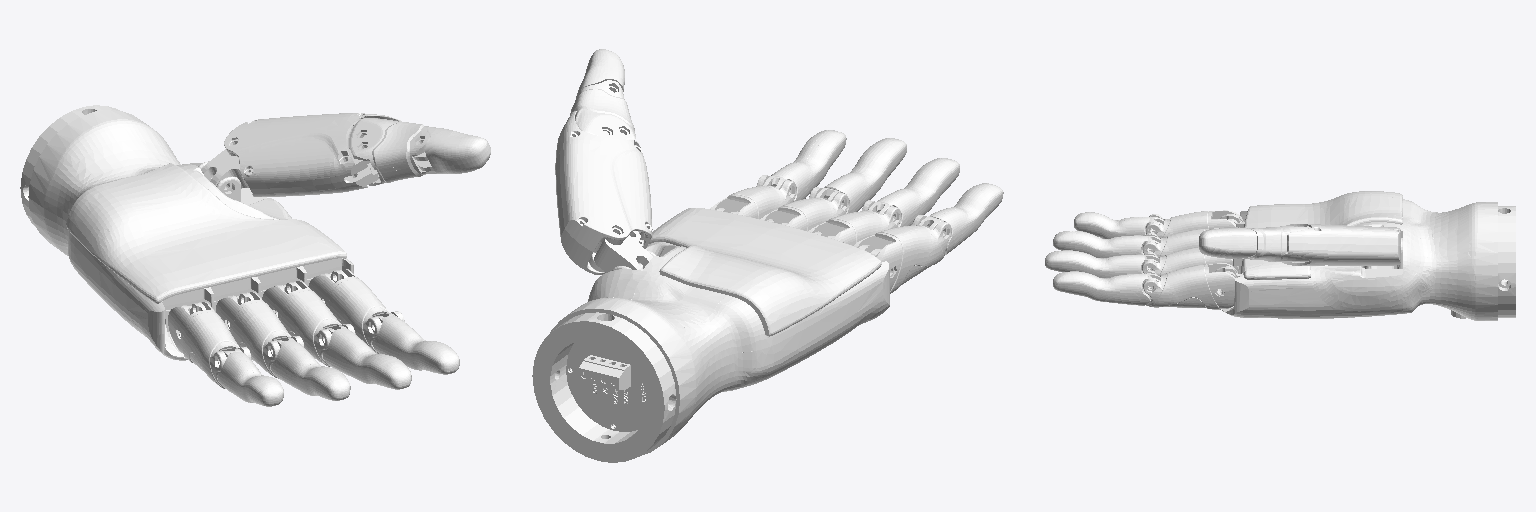
URDF robot description (inspire_hand_l):
<?xml version="1.0" encoding="utf-8"?>
<!-- This URDF was automatically created by SolidWorks to URDF Exporter! Originally created by [author] ([email redacted]) 
     Commit Version: 1.6.0-4-g7f85cfe  Build Version: 1.6.7995.38578
     For more information, please see http://wiki.ros.org/sw_urdf_exporter -->
<robot
  name="inspire_hand_l">
  
  <link name="world"/>
  <joint name="fixed" type="fixed">
  <origin
   xyz="0.5 0.5 0.5"
   rpy="-1.5707963 0 0" />
  <parent link="world"/>
  <child link="L_hand_base_link"/>
  </joint>
  
  <link
    name="L_hand_base_link">
    <inertial>
      <origin
        xyz="-0.076247 -0.1691 0.24613"
        rpy="0 0 0" />
      <mass
        value="0.14143" />
      <inertia
        ixx="7.7231E-05"
        ixy="-1.5968E-06"
        ixz="1.7694E-06"
        iyy="8.3835E-05"
        iyz="2.1995E-06"
        izz="0.0001234" />
    </inertial>
    <visual>
      <origin
        xyz="-0.078182894 -0.248685517 0.067057589"
        rpy="0 0 3.1415926" />
      <geometry>
        <mesh
          filename="package://inspire_hand_l/meshes/L_hand_base_link.STL" />
      </geometry>
      <material
        name="">
        <color
          rgba="1 1 1 1" />
      </material>
    </visual>
    <collision>
      <origin
        xyz="-0.078182894 -0.248685517 0.067057589"
        rpy="0 0 3.1415926" />
      <geometry>
        <mesh
          filename="package://inspire_hand_l/meshes/L_hand_base_link.STL" />
      </geometry>
    </collision>
  </link>
  <link
    name="L_thumb_proximal_base">
    <inertial>
      <origin
        xyz="-0.0048772 0.00668 -0.00044071"
        rpy="0 0 0" />
      <mass
        value="0.0018869" />
      <inertia
        ixx="5.2003E-08"
        ixy="4.8353E-09"
        ixz="6.6444E-09"
        iyy="6.7434E-08"
        iyz="-5.4476E-10"
        izz="8.5319E-08" />
    </inertial>
    <visual>
      <origin
        xyz="0 0 0"
        rpy="0 0.3 0" />
      <geometry>
        <mesh
          filename="package://inspire_hand_l/meshes/L_thumb_proximal_base.STL" />
      </geometry>
      <material
        name="">
        <color
          rgba="1 1 1 1" />
      </material>
    </visual>
    <collision>
      <origin
        xyz="0 0 0"
        rpy="0 0.3 0" />
      <geometry>
        <mesh
          filename="package://inspire_hand_l/meshes/L_thumb_proximal_base.STL" />
      </geometry>
    </collision>
  </link>
  <joint
    name="L_thumb_MCP_joint1"
    type="revolute">
    <origin
      xyz="0.020450106 -0.016955517 -0.091202411"
      rpy="-1.5708 0 2.9722026" />
    <parent
      link="L_hand_base_link" />
    <child
      link="L_thumb_proximal_base" />
    <axis
      xyz="0 1 0" />
    <limit
      lower="0"
      upper="1.1"
      effort="50"
      velocity="1" />
  </joint>
  <link
    name="L_thumb_proximal">
    <inertial>
      <origin
        xyz="-3.8578E-05 0.025335 0.0016982"
        rpy="0 0 0" />
      <mass
        value="0.0066101" />
      <inertia
        ixx="2.787E-06"
        ixy="1.3042E-10"
        ixz="1.3413E-09"
        iyy="8.9435E-07"
        iyz="2.1426E-07"
        izz="2.4105E-06" />
    </inertial>
    <visual>
      <origin
        xyz="0 0 0"
        rpy="0 0 0" />
      <geometry>
        <mesh
          filename="package://inspire_hand_l/meshes/L_thumb_proximal.STL" />
      </geometry>
      <material
        name="">
        <color
          rgba="1 1 1 1" />
      </material>
    </visual>
    <collision>
      <origin
        xyz="0 0 0"
        rpy="0 0 0" />
      <geometry>
        <mesh
          filename="package://inspire_hand_l/meshes/L_thumb_proximal.STL" />
      </geometry>
    </collision>
  </link>
  <joint
    name="L_thumb_MCP_joint2"
    type="revolute">
    <origin
      xyz="-0.0115 0.005 0.0034"
      rpy="0.5948037 -1.2708 0" />
    <parent
      link="L_thumb_proximal_base" />
    <child
      link="L_thumb_proximal" />
    <axis
      xyz="-1 0 0" />
    <limit
      lower="0"
      upper="0.5"
      effort="50"
      velocity="1" />
  </joint>
  <link
    name="L_thumb_intermediate">
    <inertial>
      <origin
        xyz="-1.7401E-07 0.0072516 0.0064286"
        rpy="0 0 0" />
      <mass
        value="0.0037844" />
      <inertia
        ixx="4.6532E-07"
        ixy="-9.1152E-13"
        ixz="-3.8682E-12"
        iyy="2.6856E-07"
        iyz="6.4144E-08"
        izz="4.252E-07" />
    </inertial>
    <visual>
      <origin
        xyz="0 0 0"
        rpy="0 0 0" />
      <geometry>
        <mesh
          filename="package://inspire_hand_l/meshes/L_thumb_intermediate.STL" />
      </geometry>
      <material
        name="">
        <color
          rgba="1 1 1 1" />
      </material>
    </visual>
    <collision>
      <origin
        xyz="0 0 0"
        rpy="0 0 0" />
      <geometry>
        <mesh
          filename="package://inspire_hand_l/meshes/L_thumb_intermediate.STL" />
      </geometry>
    </collision>
  </link>
  <joint
    name="L_thumb_PIP_joint"
    type="revolute">
    <origin
      xyz="0 0.055863 -0.0039241"
      rpy="0.038299 0 0" />
    <parent
      link="L_thumb_proximal" />
    <child
      link="L_thumb_intermediate" />
    <axis
      xyz="-1 0 0" />
    <limit
      lower="0"
      upper="1"
      effort="50"
      velocity="1" />
  </joint>
  <link
    name="L_thumb_distal">
    <inertial>
      <origin
        xyz="-3.3076E-06 0.010511 0.00057861"
        rpy="0 0 0" />
      <mass
        value="0.003344" />
      <inertia
        ixx="2.0026E-07"
        ixy="-1.4157E-10"
        ixz="5.6213E-11"
        iyy="8.7108E-08"
        iyz="2.4414E-08"
        izz="1.8974E-07" />
    </inertial>
    <visual>
      <origin
        xyz="0 0 0"
        rpy="0 0 0" />
      <geometry>
        <mesh
          filename="package://inspire_hand_l/meshes/L_thumb_distal.STL" />
      </geometry>
      <material
        name="">
        <color
          rgba="1 1 1 1" />
      </material>
    </visual>
    <collision>
      <origin
        xyz="0 0 0"
        rpy="0 0 0" />
      <geometry>
        <mesh
          filename="package://inspire_hand_l/meshes/L_thumb_distal.STL" />
      </geometry>
    </collision>
  </link>
  <joint
    name="L_thumb_DIP_joint"
    type="revolute">
    <origin
      xyz="0 0.022558 0.0020717"
      rpy="0.011642 0 0" />
    <parent
      link="L_thumb_intermediate" />
    <child
      link="L_thumb_distal" />
    <axis
      xyz="-1 0 0" />
    <limit
      lower="0"
      upper="1.2"
      effort="50"
      velocity="1" />
  </joint>
  <link
    name="L_index_proximal">
    <inertial>
      <origin
        xyz="0.0080456 0.011884 -0.0016957"
        rpy="0 0 0" />
      <mass
        value="0.0042405" />
      <inertia
        ixx="6.9402E-07"
        ixy="1.4654E-11"
        ixz="-2.3231E-12"
        iyy="2.3041E-07"
        iyz="9.1802E-08"
        izz="6.4342E-07" />
    </inertial>
    <visual>
      <origin
        xyz="0 0 0"
        rpy="0 0 0" />
      <geometry>
        <mesh
          filename="package://inspire_hand_l/meshes/L_index_proximal.STL" />
      </geometry>
      <material
        name="">
        <color
          rgba="1 1 1 1" />
      </material>
    </visual>
    <collision>
      <origin
        xyz="0 0 0"
        rpy="0 0 0" />
      <geometry>
        <mesh
          filename="package://inspire_hand_l/meshes/L_index_proximal.STL" />
      </geometry>
    </collision>
  </link>
  <joint
    name="L_index_MCP_joint"
    type="revolute">
    <origin
      xyz="0.018231106 0.000284483 -0.173012411"
      rpy="-1.3208 -0.034907 0" />
    <parent
      link="L_hand_base_link" />
    <child
      link="L_index_proximal" />
    <axis
      xyz="-1 0 0" />
    <limit
      lower="0"
      upper="1.7"
      effort="50"
      velocity="1" />
  </joint>
  <link
    name="L_index_distal">
    <inertial>
      <origin
        xyz="0.0063917 0.01959 -0.0019564"
        rpy="0 0 0" />
      <mass
        value="0.0045682" />
      <inertia
        ixx="7.8176E-07"
        ixy="-7.7162E-14"
        ixz="3.9272E-13"
        iyy="1.5634E-07"
        iyz="2.1006E-07"
        izz="7.0081E-07" />
    </inertial>
    <visual>
      <origin
        xyz="0 0 0"
        rpy="0 0 0" />
      <geometry>
        <mesh
          filename="package://inspire_hand_l/meshes/L_index_distal.STL" />
      </geometry>
      <material
        name="">
        <color
          rgba="1 1 1 1" />
      </material>
    </visual>
    <collision>
      <origin
        xyz="0 0 0"
        rpy="0 0 0" />
      <geometry>
        <mesh
          filename="package://inspire_hand_l/meshes/L_index_distal.STL" />
      </geometry>
    </collision>
  </link>
  <joint
    name="L_index_DIP_joint"
    type="revolute">
    <origin
      xyz="0.0016538 0.030445 -0.010275"
      rpy="-0.039748 0 0" />
    <parent
      link="L_index_proximal" />
    <child
      link="L_index_distal" />
    <axis
      xyz="-1 0 0" />
    <limit
      lower="0"
      upper="1.6"
      effort="50"
      velocity="1" />
  </joint>
  <link
    name="L_middle_proximal">
    <inertial>
      <origin
        xyz="0.0080653 0.011884 -0.0016957"
        rpy="0 0 0" />
      <mass
        value="0.0042405" />
      <inertia
        ixx="6.9402E-07"
        ixy="1.4338E-11"
        ixz="-2.3917E-12"
        iyy="2.3041E-07"
        iyz="9.1802E-08"
        izz="6.4342E-07" />
    </inertial>
    <visual>
      <origin
        xyz="0 0 0"
        rpy="0 0 0" />
      <geometry>
        <mesh
          filename="package://inspire_hand_l/meshes/L_middle_proximal.STL" />
      </geometry>
      <material
        name="">
        <color
          rgba="1 1 1 1" />
      </material>
    </visual>
    <collision>
      <origin
        xyz="0 0 0"
        rpy="0 0 0" />
      <geometry>
        <mesh
          filename="package://inspire_hand_l/meshes/L_middle_proximal.STL" />
      </geometry>
    </collision>
  </link>
  <joint
    name="L_middle_MCP_joint"
    type="revolute">
    <origin
      xyz="-0.001114894 0.000284483 -0.173012411"
      rpy="-1.3208 0 0" />
    <parent
      link="L_hand_base_link" />
    <child
      link="L_middle_proximal" />
    <axis
      xyz="-1 0 0" />
    <limit
      lower="0"
      upper="1.7"
      effort="50"
      velocity="1" />
  </joint>
  <link
    name="L_middle_distal">
    <inertial>
      <origin
        xyz="0.0063955 0.020807 -0.0018039"
        rpy="0 0 0" />
      <mass
        value="0.0050397" />
      <inertia
        ixx="9.8385E-07"
        ixy="-4.0683E-12"
        ixz="-1.7233E-12"
        iyy="1.7328E-07"
        iyz="2.5594E-07"
        izz="8.9141E-07" />
    </inertial>
    <visual>
      <origin
        xyz="0 0 0"
        rpy="0 0 0" />
      <geometry>
        <mesh
          filename="package://inspire_hand_l/meshes/L_middle_distal.STL" />
      </geometry>
      <material
        name="">
        <color
          rgba="1 1 1 1" />
      </material>
    </visual>
    <collision>
      <origin
        xyz="0 0 0"
        rpy="0 0 0" />
      <geometry>
        <mesh
          filename="package://inspire_hand_l/meshes/L_middle_distal.STL" />
      </geometry>
    </collision>
  </link>
  <joint
    name="L_middle_DIP_joint"
    type="revolute">
    <origin
      xyz="0.0016698 0.030445 -0.010275"
      rpy="-0.071413 0 0" />
    <parent
      link="L_middle_proximal" />
    <child
      link="L_middle_distal" />
    <axis
      xyz="-1 0 0" />
    <limit
      lower="0"
      upper="1.6"
      effort="50"
      velocity="1" />
  </joint>
  <link
    name="L_ring_proximal">
    <inertial>
      <origin
        xyz="0.010821 0.011884 -0.0016957"
        rpy="0 0 0" />
      <mass
        value="0.0042405" />
      <inertia
        ixx="6.9402E-07"
        ixy="1.3923E-11"
        ixz="-2.5637E-12"
        iyy="2.3041E-07"
        iyz="9.1802E-08"
        izz="6.4342E-07" />
    </inertial>
    <visual>
      <origin
        xyz="0 0 0"
        rpy="0 0 0" />
      <geometry>
        <mesh
          filename="package://inspire_hand_l/meshes/L_ring_proximal.STL" />
      </geometry>
      <material
        name="">
        <color
          rgba="1 1 1 1" />
      </material>
    </visual>
    <collision>
      <origin
        xyz="0 0 0"
        rpy="0 0 0" />
      <geometry>
        <mesh
          filename="package://inspire_hand_l/meshes/L_ring_proximal.STL" />
      </geometry>
    </collision>
  </link>
  <joint
    name="L_ring_MCP_joint"
    type="revolute">
    <origin
      xyz="-0.023084894 0.000284483 -0.172032411"
      rpy="-1.3208 0.05236 0" />
    <parent
      link="L_hand_base_link" />
    <child
      link="L_ring_proximal" />
    <axis
      xyz="-1 0 0" />
    <limit
      lower="0"
      upper="1.7"
      effort="50"
      velocity="1" />
  </joint>
  <link
    name="L_ring_distal">
    <inertial>
      <origin
        xyz="0.009285 0.019591 -0.0019565"
        rpy="0 0 0" />
      <mass
        value="0.0045682" />
      <inertia
        ixx="7.8176E-07"
        ixy="4.4486E-13"
        ixz="-6.071E-14"
        iyy="1.5634E-07"
        iyz="2.1006E-07"
        izz="7.0081E-07" />
    </inertial>
    <visual>
      <origin
        xyz="0 0 0"
        rpy="0 0 0" />
      <geometry>
        <mesh
          filename="package://inspire_hand_l/meshes/L_ring_distal.STL" />
      </geometry>
      <material
        name="">
        <color
          rgba="1 1 1 1" />
      </material>
    </visual>
    <collision>
      <origin
        xyz="0 0 0"
        rpy="0 0 0" />
      <geometry>
        <mesh
          filename="package://inspire_hand_l/meshes/L_ring_distal.STL" />
      </geometry>
    </collision>
  </link>
  <joint
    name="L_ring_DIP_joint"
    type="revolute">
    <origin
      xyz="0.0015355 0.030445 -0.010275"
      rpy="-0.039748 0 0" />
    <parent
      link="L_ring_proximal" />
    <child
      link="L_ring_distal" />
    <axis
      xyz="-1 0 0" />
    <limit
      lower="0"
      upper="1.6"
      effort="50"
      velocity="1" />
  </joint>
  <link
    name="L_pinky_proximal">
    <inertial>
      <origin
        xyz="0.013546 0.011884 -0.0016957"
        rpy="0 0 0" />
      <mass
        value="0.0042405" />
      <inertia
        ixx="6.9402E-07"
        ixy="1.4088E-11"
        ixz="-2.5363E-12"
        iyy="2.3041E-07"
        iyz="9.1802E-08"
        izz="6.4342E-07" />
    </inertial>
    <visual>
      <origin
        xyz="0 0 0"
        rpy="0 0 0" />
      <geometry>
        <mesh
          filename="package://inspire_hand_l/meshes/L_pinky_proximal.STL" />
      </geometry>
      <material
        name="">
        <color
          rgba="1 1 1 1" />
      </material>
    </visual>
    <collision>
      <origin
        xyz="0 0 0"
        rpy="0 0 0" />
      <geometry>
        <mesh
          filename="package://inspire_hand_l/meshes/L_pinky_proximal.STL" />
      </geometry>
    </collision>
  </link>
  <joint
    name="L_pinky_MCP_joint"
    type="revolute">
    <origin
      xyz="-0.044926894 0.000284483 -0.169672411"
      rpy="-1.3208 0.10472 0" />
    <parent
      link="L_hand_base_link" />
    <child
      link="L_pinky_proximal" />
    <axis
      xyz="-1 0 0" />
    <limit
      lower="0"
      upper="1.7"
      effort="50"
      velocity="1" />
  </joint>
  <link
    name="L_pinky_distal">
    <inertial>
      <origin
        xyz="0.013546 0.016245 -0.0022219"
        rpy="0 0 0" />
      <mass
        value="0.0036036" />
      <inertia
        ixx="4.4881E-07"
        ixy="-2.6544E-12"
        ixz="2.0643E-12"
        iyy="1.2252E-07"
        iyz="1.3507E-07"
        izz="3.8703E-07" />
    </inertial>
    <visual>
      <origin
        xyz="0 0 0"
        rpy="0 0 0" />
      <geometry>
        <mesh
          filename="package://inspire_hand_l/meshes/L_pinky_distal.STL" />
      </geometry>
      <material
        name="">
        <color
          rgba="1 1 1 1" />
      </material>
    </visual>
    <collision>
      <origin
        xyz="0 0 0"
        rpy="0 0 0" />
      <geometry>
        <mesh
          filename="package://inspire_hand_l/meshes/L_pinky_distal.STL" />
      </geometry>
    </collision>
  </link>
  <joint
    name="L_pinky_DIP_joint"
    type="revolute">
    <origin
      xyz="0 0.030445 -0.010275"
      rpy="0.037691 0 0" />
    <parent
      link="L_pinky_proximal" />
    <child
      link="L_pinky_distal" />
    <axis
      xyz="-1 0 0" />
    <limit
      lower="0"
      upper="1.6"
      effort="50"
      velocity="1" />
  </joint>
</robot>

--- Facts derived from the render (not from the file) ---
3 views of the same robot in one strip: view 1: azimuth 30°, elevation 25°; view 2: azimuth 150°, elevation 25°; view 3: azimuth 270°, elevation 25° (orthographic).
Model inspire_hand_l with 14 links and 13 joints (12 revolute, 1 fixed), rooted at world, posed every joint at zero.
Links seen in each view (by area): view 1: L_hand_base_link, L_thumb_proximal, L_thumb_intermediate, L_pinky_proximal, L_middle_proximal, L_ring_proximal, L_index_proximal, L_middle_distal, L_index_distal, L_ring_distal, L_thumb_distal, L_pinky_distal (+1 smaller); view 2: L_hand_base_link, L_thumb_proximal, L_pinky_proximal, L_middle_distal, L_thumb_intermediate, L_ring_distal, L_index_distal, L_pinky_distal, L_ring_proximal, L_middle_proximal, L_index_proximal, L_thumb_proximal_base (+1 smaller); view 3: L_hand_base_link, L_thumb_proximal, L_index_proximal, L_index_distal, L_middle_distal, L_ring_distal, L_thumb_distal, L_pinky_distal, L_pinky_proximal, L_thumb_intermediate, L_middle_proximal, L_ring_proximal.
Boxes of the visible links, <box> form: L_hand_base_link: <box>20,105,353,360</box>; L_thumb_proximal: <box>224,113,401,196</box>; L_thumb_intermediate: <box>347,118,436,185</box>; L_pinky_proximal: <box>168,302,251,388</box>; L_middle_proximal: <box>262,280,355,366</box>; L_ring_proximal: <box>216,292,303,378</box>; L_index_proximal: <box>308,269,404,353</box>; L_middle_distal: <box>323,325,411,389</box>; L_index_distal: <box>372,313,459,374</box>; L_ring_distal: <box>271,337,350,400</box>; L_thumb_distal: <box>414,127,490,173</box>; L_pinky_distal: <box>217,348,283,406</box>; L_hand_base_link: <box>532,208,889,462</box>; L_thumb_proximal: <box>555,111,652,274</box>; L_pinky_proximal: <box>854,215,951,293</box>; L_middle_distal: <box>816,138,906,213</box>; L_thumb_intermediate: <box>570,80,635,140</box>; L_ring_distal: <box>868,158,959,226</box>; L_index_distal: <box>763,130,846,200</box>; L_pinky_distal: <box>919,183,1003,254</box>; L_ring_proximal: <box>808,200,900,245</box>; L_middle_proximal: <box>760,187,848,230</box>; L_index_proximal: <box>710,175,795,218</box>; L_thumb_proximal_base: <box>594,231,652,272</box>; L_hand_base_link: <box>1215,191,1515,320</box>; L_thumb_proximal: <box>1282,224,1400,265</box>; L_index_proximal: <box>1143,263,1237,309</box>; L_index_distal: <box>1053,271,1160,305</box>; L_middle_distal: <box>1045,250,1159,277</box>; L_ring_distal: <box>1053,231,1160,257</box>; L_thumb_distal: <box>1199,227,1256,258</box>; L_pinky_distal: <box>1074,212,1164,238</box>; L_pinky_proximal: <box>1146,210,1243,237</box>; L_thumb_intermediate: <box>1238,226,1311,261</box>; L_middle_proximal: <box>1142,247,1239,275</box>; L_ring_proximal: <box>1143,228,1219,256</box>.
Bounding box of the posed robot: 0.1289 × 0.2177 × 0.0798 m (x, y, z).
Meshes: 13 distinct files referenced, 13 mesh visuals loaded (13 binary STL).